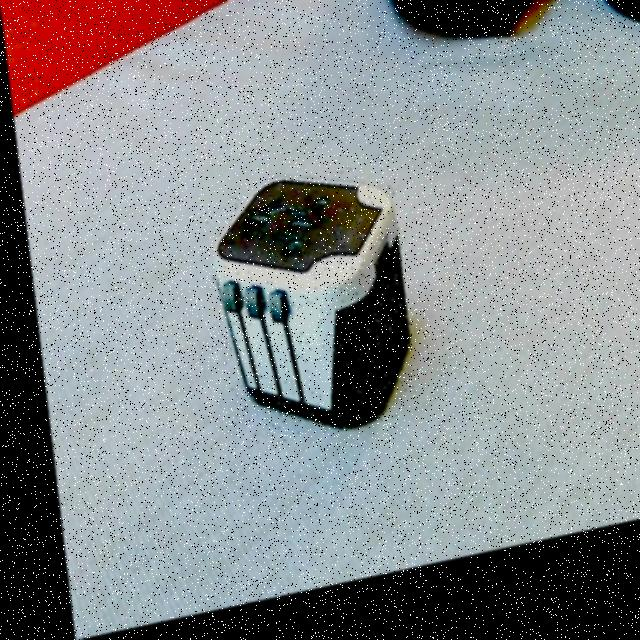adapter: (196, 168, 409, 460)
